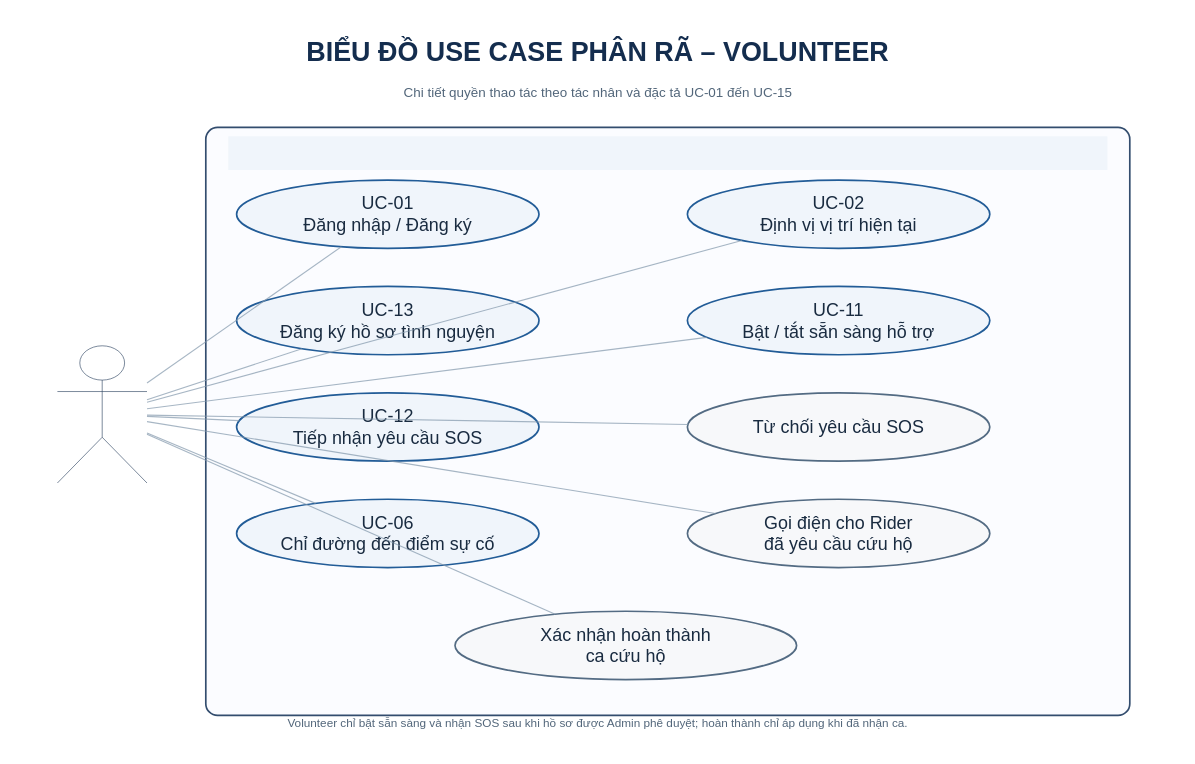
The diagram is 1195 pixels wide and 764 high, and some of its shapes have lost their labels. Each missing label, with the centre of its shape:
"VOLUNTEER Tình nguyện viên" belongs at pixel 102 414.
"ỨNG DỤNG KẾT NỐI CỨU HỘ & TÌNH NGUYỆN XE MÁY" belongs at pixel 667 153.
